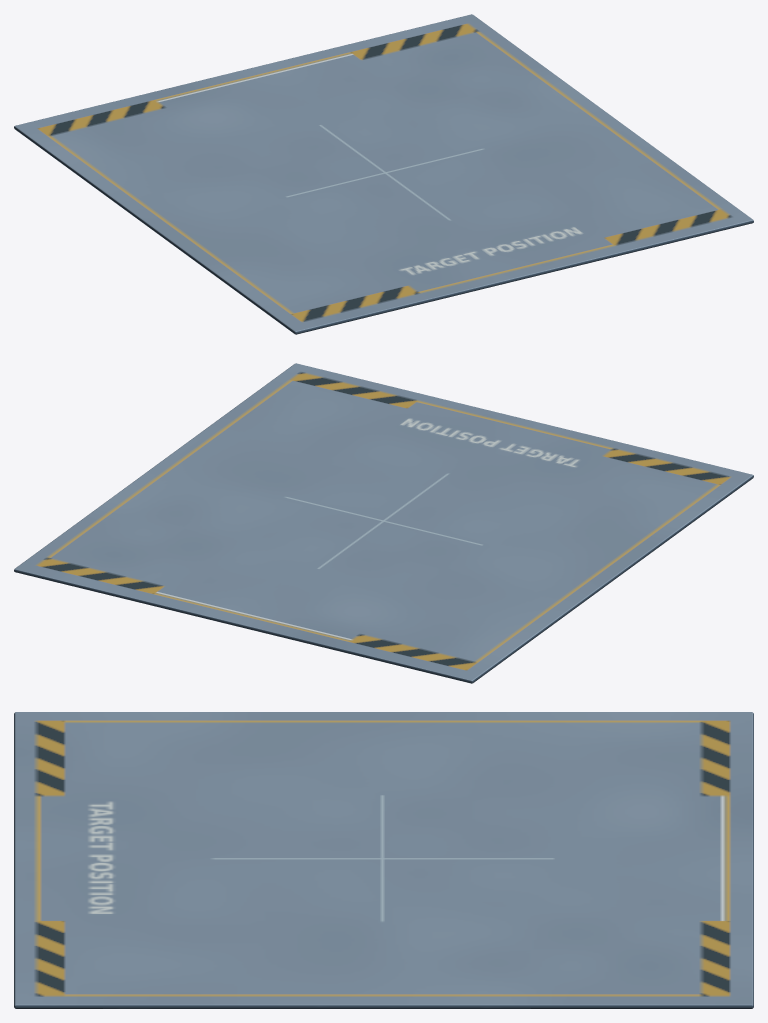
File: SM_TargetPad.glb
3 renders of one model, top to bottom at view 1: azimuth 30°, elevation 25°; view 2: azimuth 150°, elevation 25°; view 3: azimuth 270°, elevation 25°, orthographic. The views are drawn at different scales.
Visible parts, largest first — view 1: SM_TargetPad; view 2: SM_TargetPad; view 3: SM_TargetPad.
Part boxes in pixels (x1=…): SM_TargetPad: x1=14, y1=14, x2=753, y2=334; SM_TargetPad: x1=14, y1=363, x2=753, y2=683; SM_TargetPad: x1=14, y1=712, x2=753, y2=1008.
Bounding box in the file's own units: 1.88 × 0.014 × 2.
Materials: 1 (1 with a texture image).
